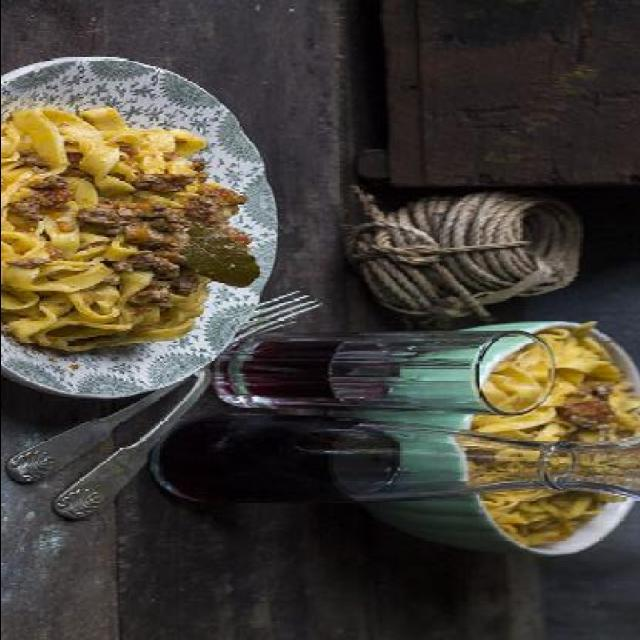Pasta al ragu: (4, 83, 244, 385)
